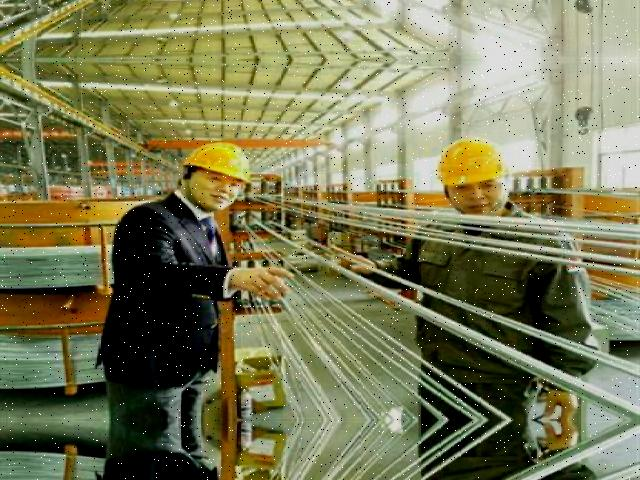Helmet: (430, 133, 515, 188), (176, 136, 255, 190)
